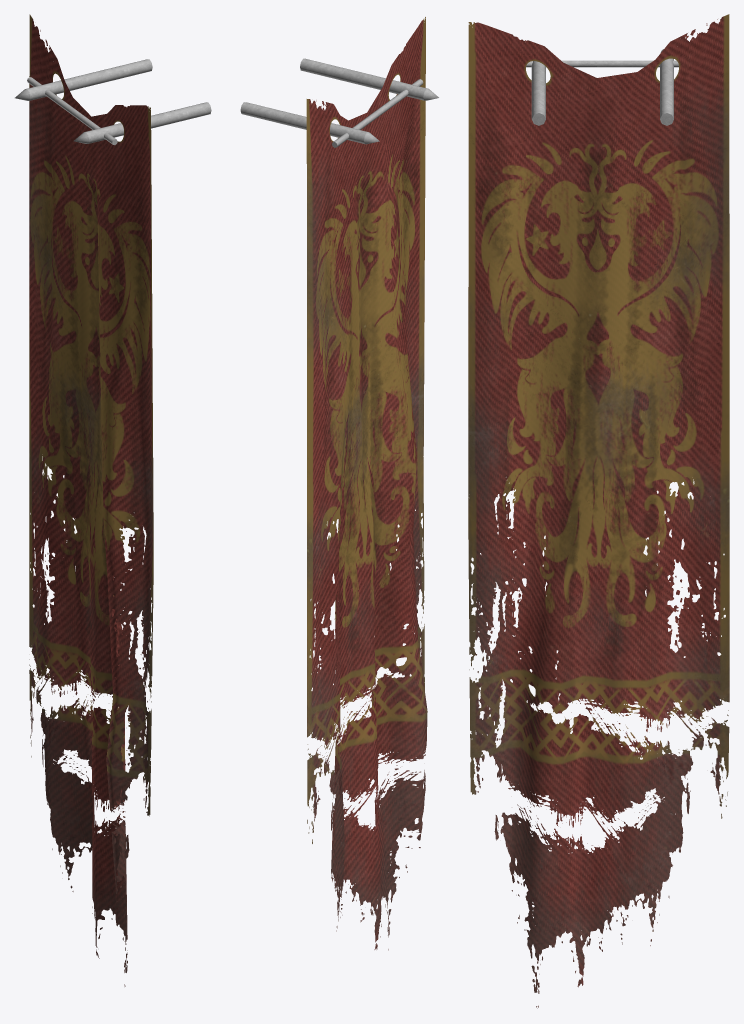
The model's file is SM_banner.fbx.
3 renders of one model, left to right at view 1: azimuth 30°, elevation 25°; view 2: azimuth 150°, elevation 25°; view 3: azimuth 270°, elevation 25°, orthographic. The views are drawn at different scales.
Parts seen in each view (by area): view 1: SM_banner_LOD0; view 2: SM_banner_LOD0; view 3: SM_banner_LOD0.
Boxes of the visible parts, <box> form: SM_banner_LOD0: <box>15,14,211,986</box>; SM_banner_LOD0: <box>240,17,438,950</box>; SM_banner_LOD0: <box>468,14,729,1008</box>.
Bounding box in the file's own units: 145 × 224 × 938.
